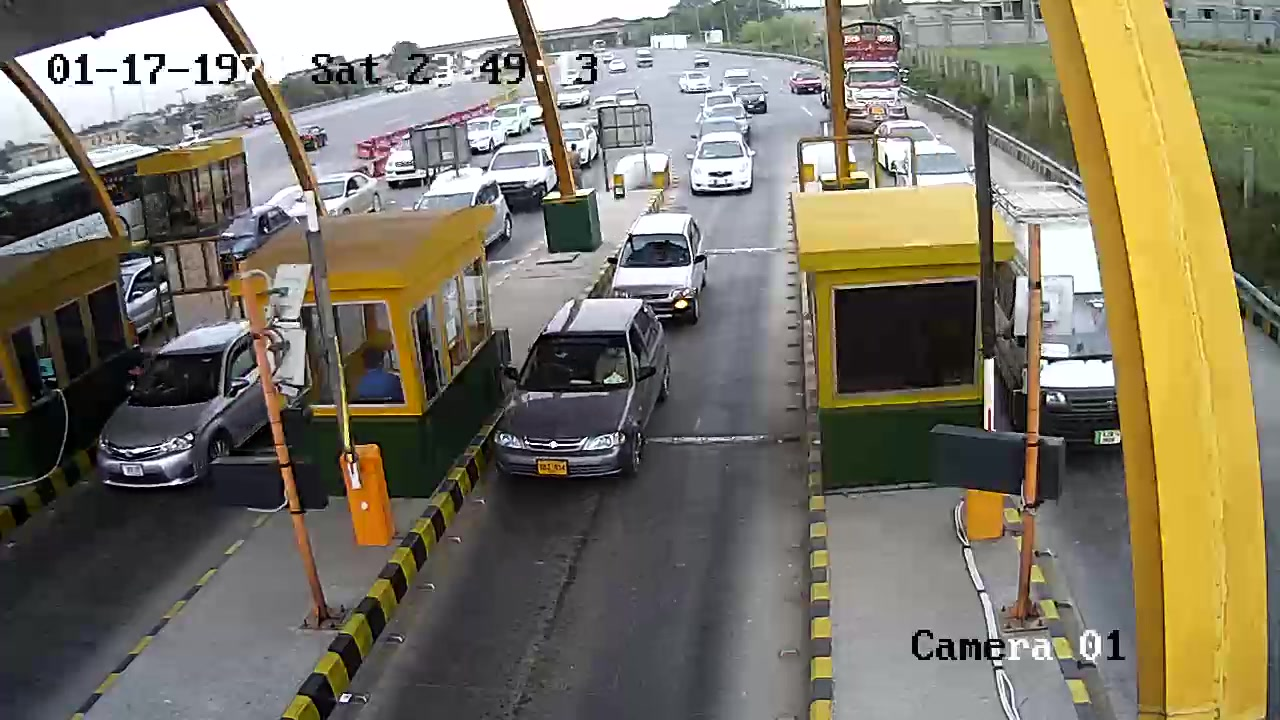F1: (483, 297, 677, 486)
